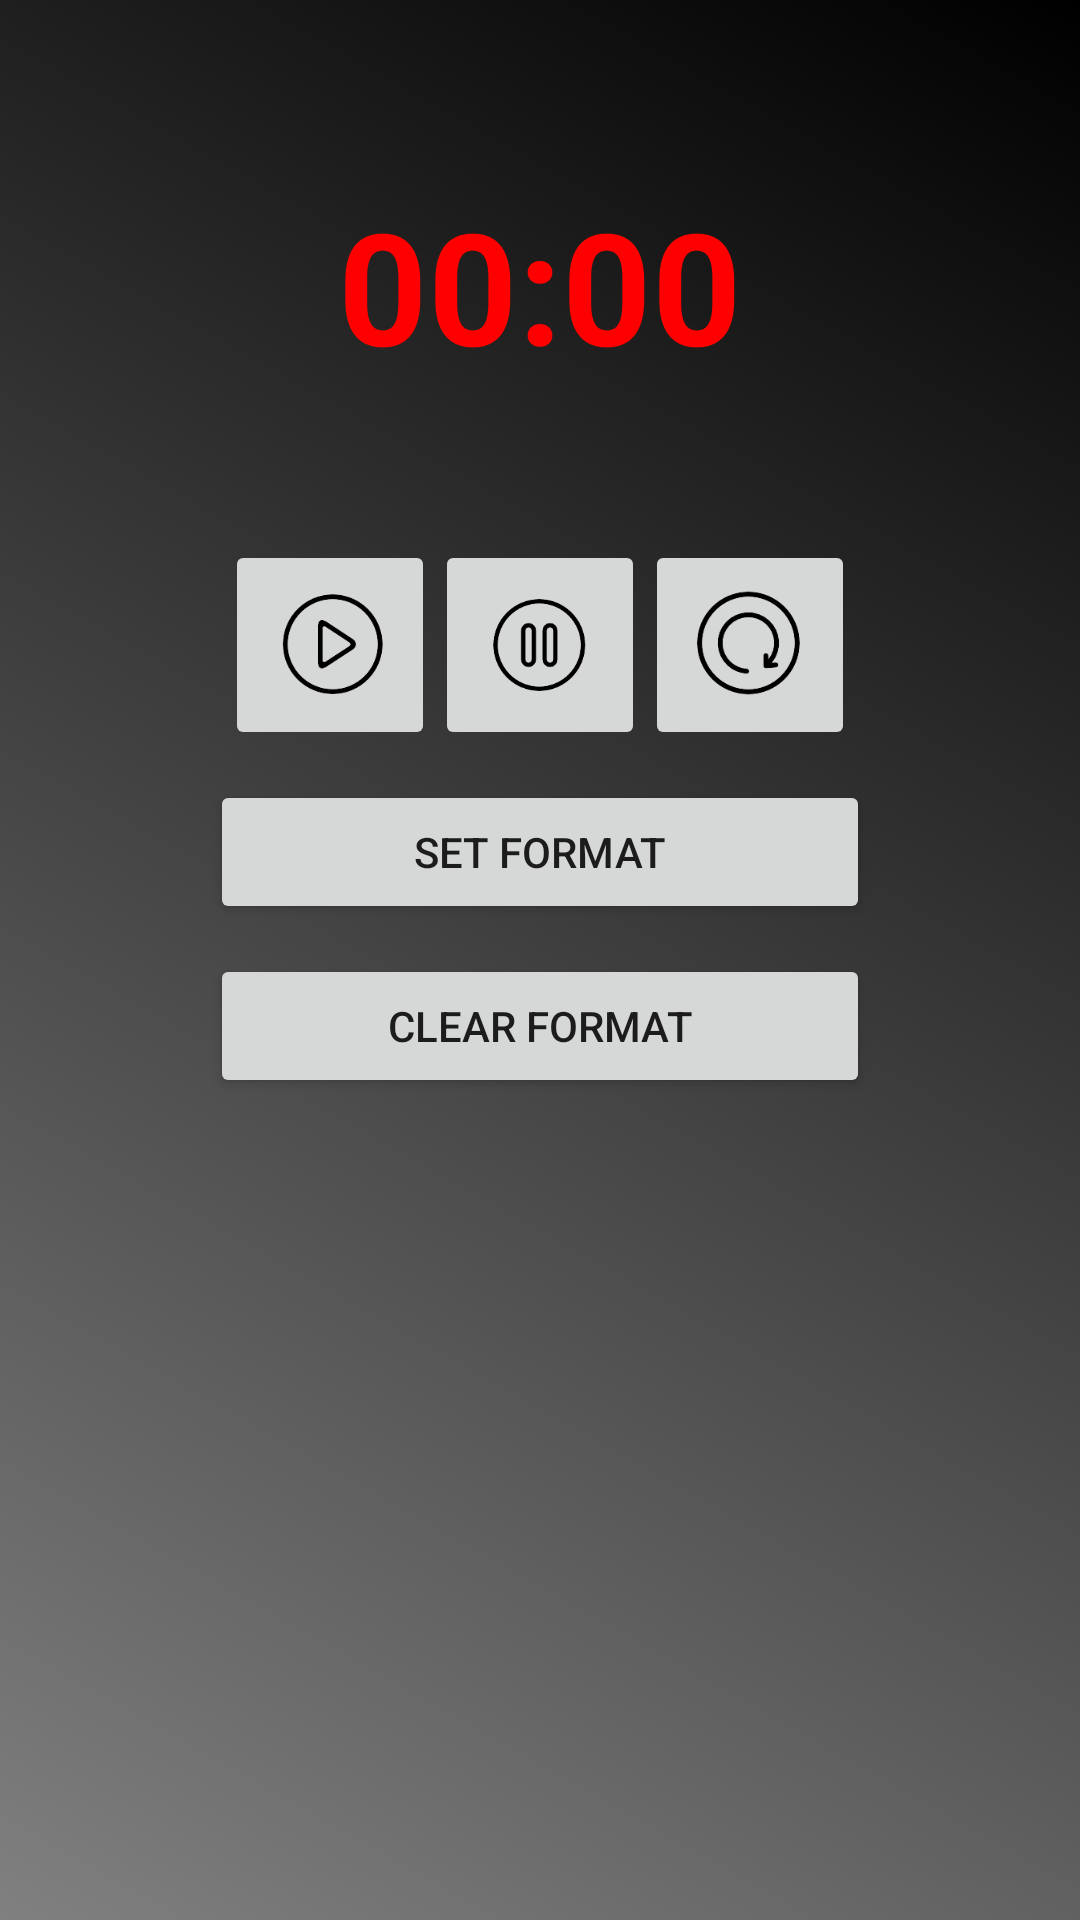

Icons on this 1080px x 1920px Android screen, each with the point to tap as [x,y]:
pause: [540,645]
play: [330,645]
replay: [750,645]
